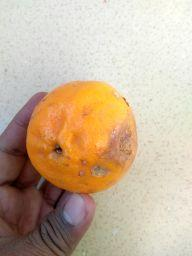Unripe: (24, 81, 140, 190)
